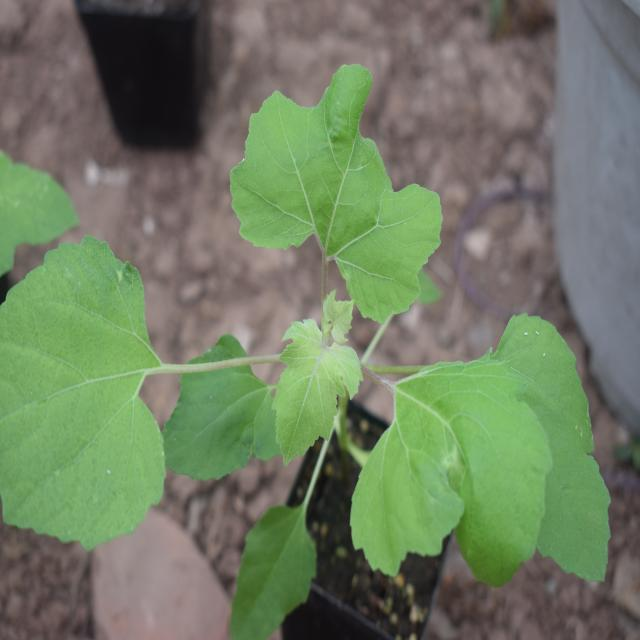cocklebur: (16, 103, 619, 568)
